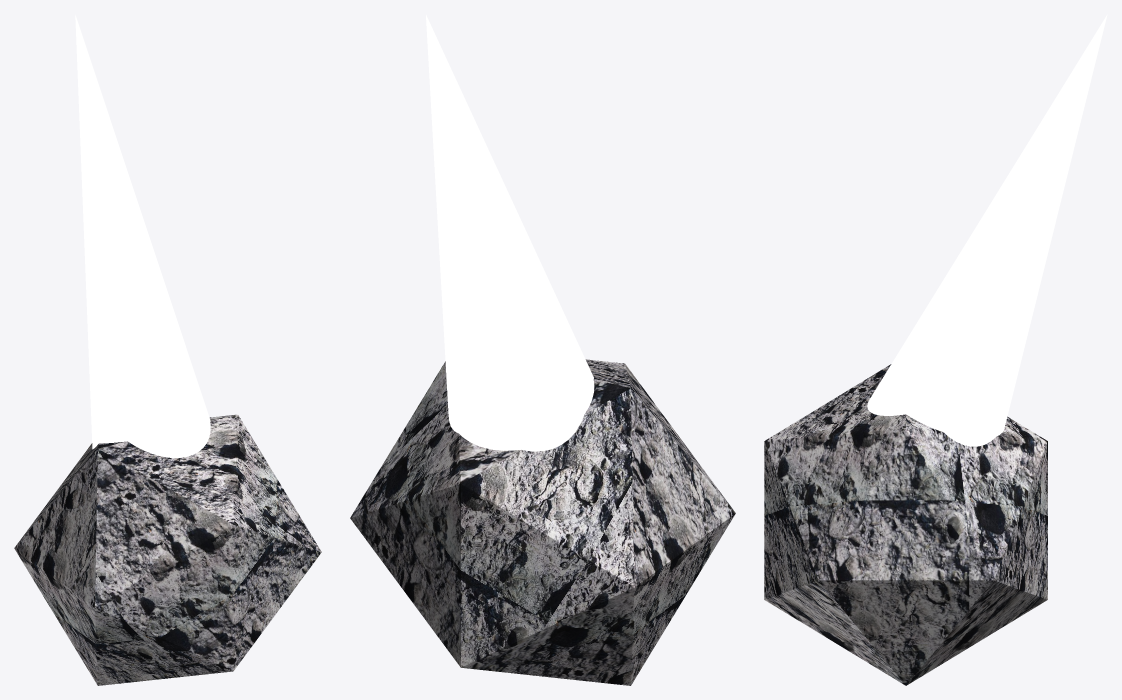
Rendered from meteor.glb.
3 views of the same model, side by side, from view 1: azimuth 30°, elevation 25°; view 2: azimuth 150°, elevation 25°; view 3: azimuth 270°, elevation 25° (orthographic). The views are drawn at different scales.
Visible parts, largest first — view 1: Icosahedron, Cone; view 2: Icosahedron, Cone; view 3: Icosahedron, Cone.
Boxes of the visible parts, x1,y1,x2,y2 form: Icosahedron: (14, 414, 321, 685); Cone: (75, 15, 210, 457); Icosahedron: (350, 359, 735, 685); Cone: (426, 15, 594, 451); Icosahedron: (764, 364, 1047, 685); Cone: (867, 14, 1107, 446).
Bounding box in the file's own units: 0.1701 × 0.4206 × 0.206.
Materials: 2 (1 with a texture image).
